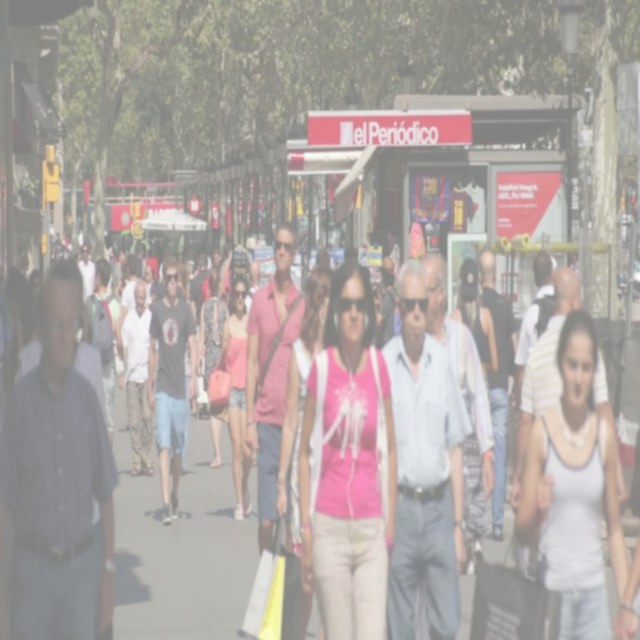pessoa: (0, 264, 120, 640), (512, 304, 637, 640), (295, 252, 400, 640), (379, 258, 474, 640), (508, 262, 630, 516), (244, 218, 308, 563), (273, 263, 331, 640), (15, 256, 117, 449), (418, 252, 496, 504), (448, 256, 500, 578), (145, 252, 198, 525), (472, 249, 520, 543), (150, 260, 197, 475), (219, 272, 259, 520), (116, 276, 161, 476), (514, 248, 572, 400), (80, 255, 124, 450), (194, 264, 230, 470), (0, 247, 40, 392), (372, 254, 398, 352), (616, 532, 640, 638), (190, 252, 217, 336), (120, 254, 151, 326), (47, 220, 85, 264), (176, 250, 200, 305), (135, 242, 166, 283), (77, 243, 96, 306), (105, 185, 175, 202), (218, 240, 233, 306), (244, 260, 262, 315), (372, 280, 385, 348), (112, 247, 126, 302), (145, 282, 167, 312), (106, 251, 118, 296), (205, 246, 223, 274), (112, 336, 124, 378), (314, 245, 332, 272), (151, 338, 160, 390), (122, 250, 130, 291), (212, 274, 219, 297), (548, 256, 558, 270), (88, 253, 94, 261)
